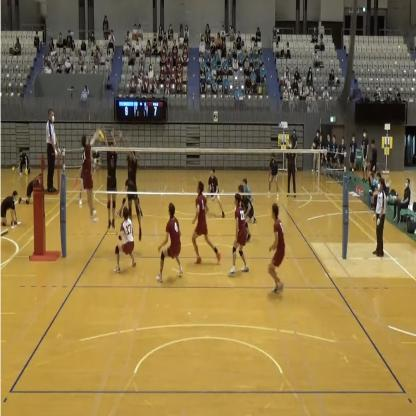spike: (78, 122, 104, 226)
